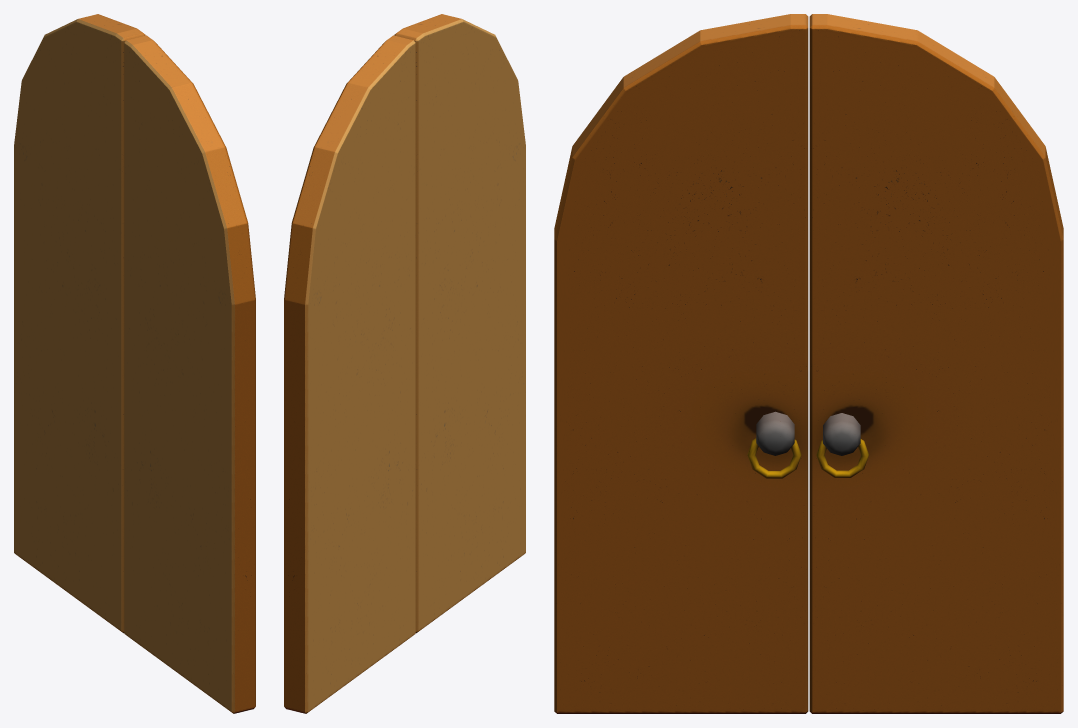
The model's file is map_cua.fbx.
3 renders of one model, left to right at view 1: azimuth 30°, elevation 25°; view 2: azimuth 150°, elevation 25°; view 3: azimuth 270°, elevation 25°, orthographic. The views are drawn at different scales.
Visible parts, largest first — view 1: Cube.018, Cube.019; view 2: Cube.019, Cube.018; view 3: Cube.018, Cube.019.
Part boxes in pixels (x1,y1,x2,y2): Cube.018: (124,35,255,713); Cube.019: (14,14,145,633); Cube.019: (284,35,415,713); Cube.018: (394,14,525,633); Cube.018: (554,14,808,713); Cube.019: (809,14,1063,713).
Size of the model in its own units: 1.08 by 13.64 by 9.14.
Materials: 1 (1 with a texture image).
